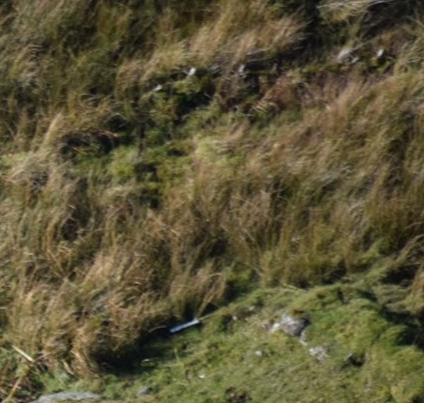straight_bar: (162, 308, 206, 341)
